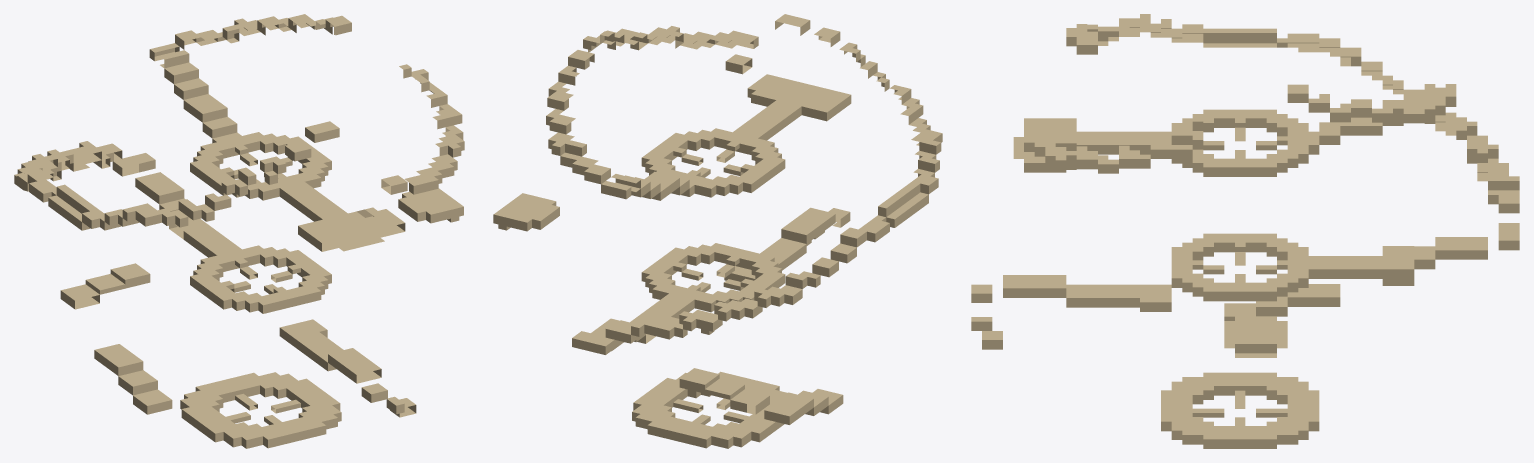
The model's file is SpherePlatforms.fbx.
3 renders of one model, left to right at view 1: azimuth 30°, elevation 25°; view 2: azimuth 150°, elevation 25°; view 3: azimuth 270°, elevation 25°, orthographic. The views are drawn at different scales.
Parts seen in each view (by area): view 1: Sphere_platforms; view 2: Sphere_platforms; view 3: Sphere_platforms.
Boxes of the visible parts, bbox=[...] form: Sphere_platforms: bbox=[14, 14, 464, 448]; Sphere_platforms: bbox=[493, 14, 942, 448]; Sphere_platforms: bbox=[971, 14, 1519, 448].
Bounding box in the file's own units: 4747 × 4040 × 5252.
